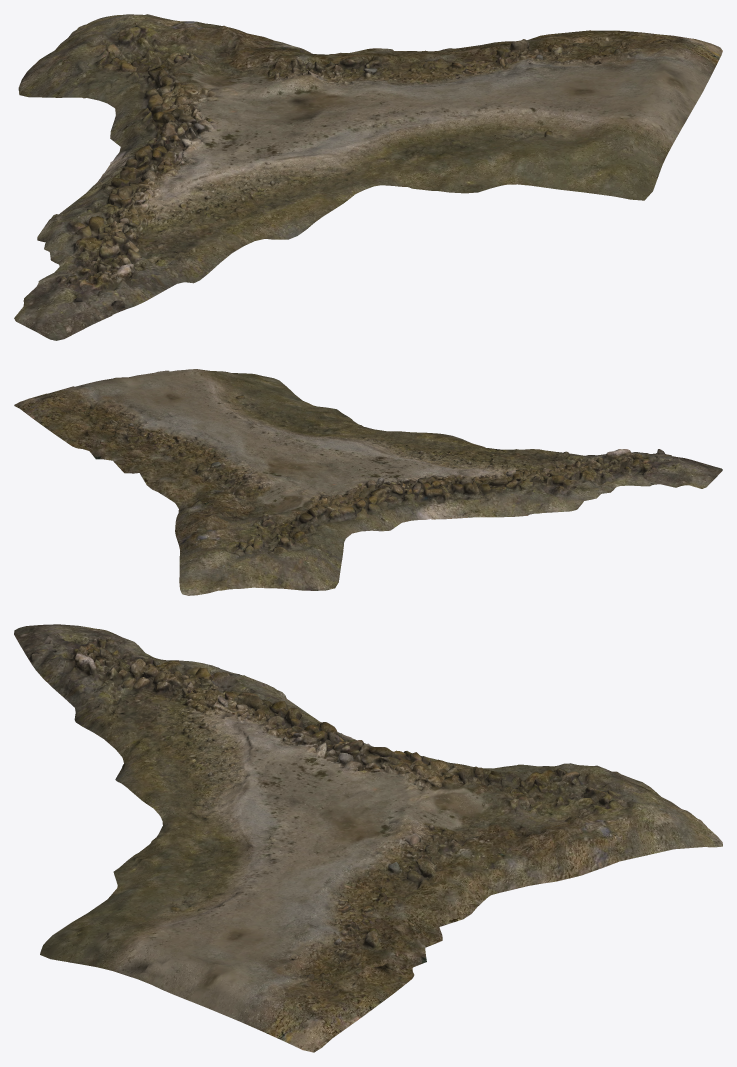
File: coast_rocks_01.glb
3 views of the same model, one above another, from view 1: azimuth 30°, elevation 25°; view 2: azimuth 150°, elevation 25°; view 3: azimuth 270°, elevation 25° (orthographic). The views are drawn at different scales.
Visible parts, largest first — view 1: coast_rocks_01; view 2: coast_rocks_01; view 3: coast_rocks_01.
Boxes of the visible parts, x1=… form: coast_rocks_01: x1=14, y1=14, x2=722, y2=340; coast_rocks_01: x1=14, y1=369, x2=722, y2=595; coast_rocks_01: x1=14, y1=624, x2=722, y2=1052.
Size of the model in its own units: 59.51 by 3.29 by 42.51.
Materials: 1 (1 with a texture image).
